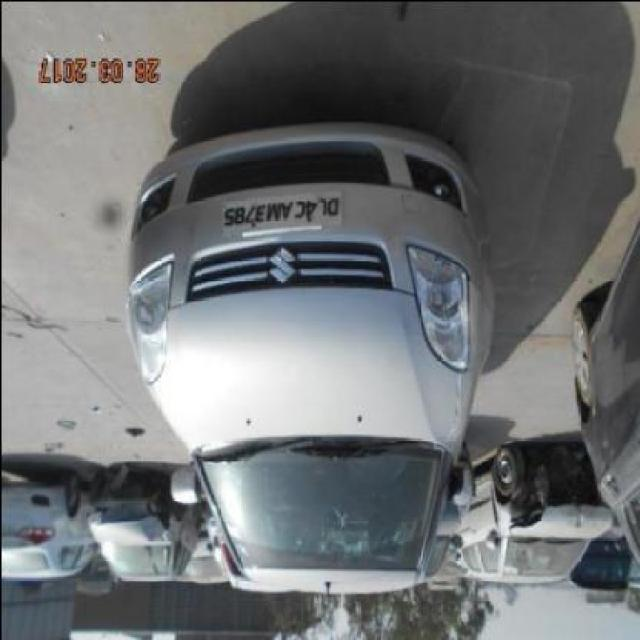damage: (326, 499, 349, 533)
